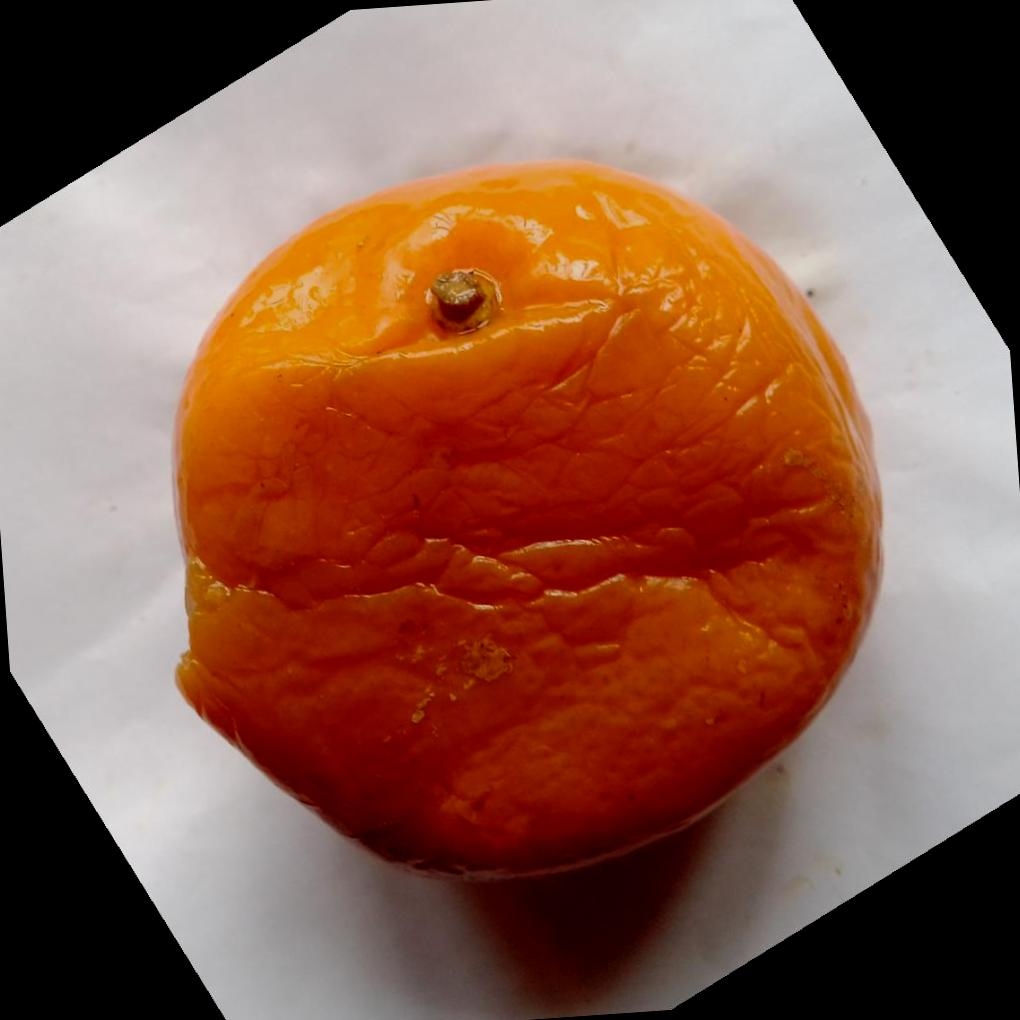FreshOrange: (171, 159, 885, 886)
